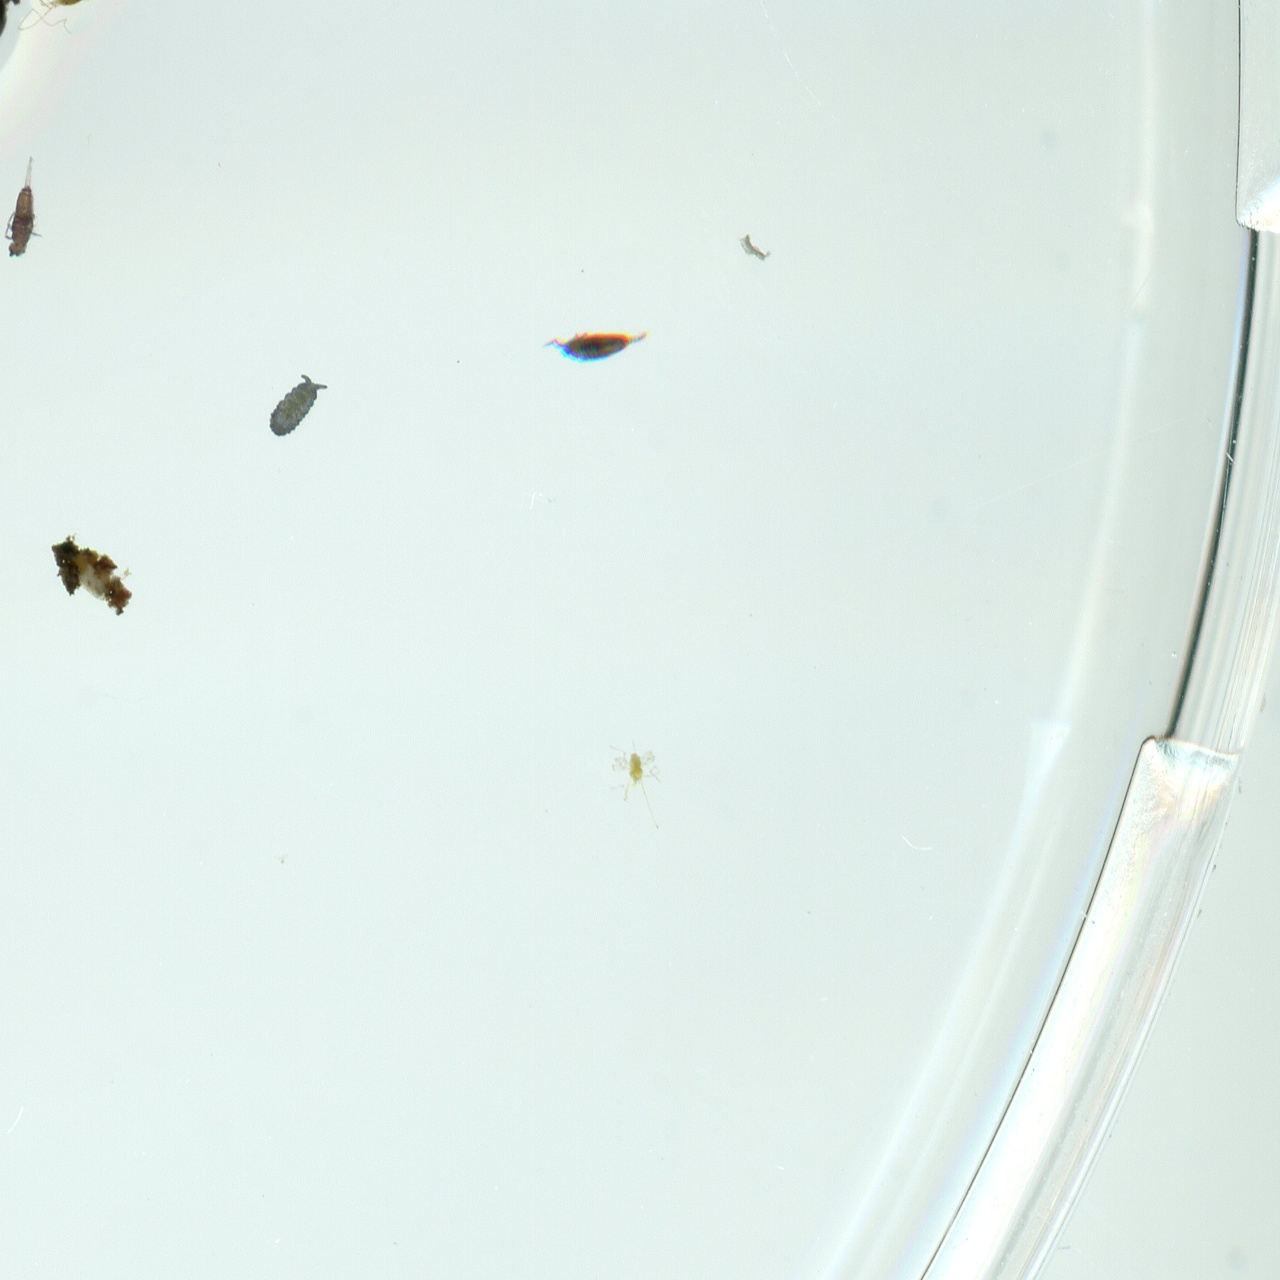arthropod: (605, 730, 669, 812), (4, 155, 45, 258), (267, 373, 328, 438), (540, 332, 654, 361), (18, 0, 94, 36)
